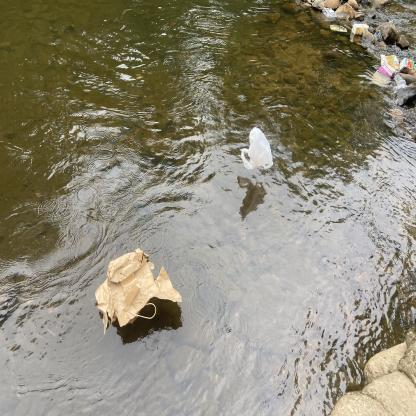trash: (92, 242, 186, 338), (238, 121, 276, 174), (370, 61, 399, 86), (378, 52, 400, 70), (350, 22, 370, 36), (399, 56, 416, 72), (321, 6, 338, 21), (393, 72, 407, 90), (330, 24, 348, 34), (392, 83, 408, 94), (374, 29, 384, 46)
